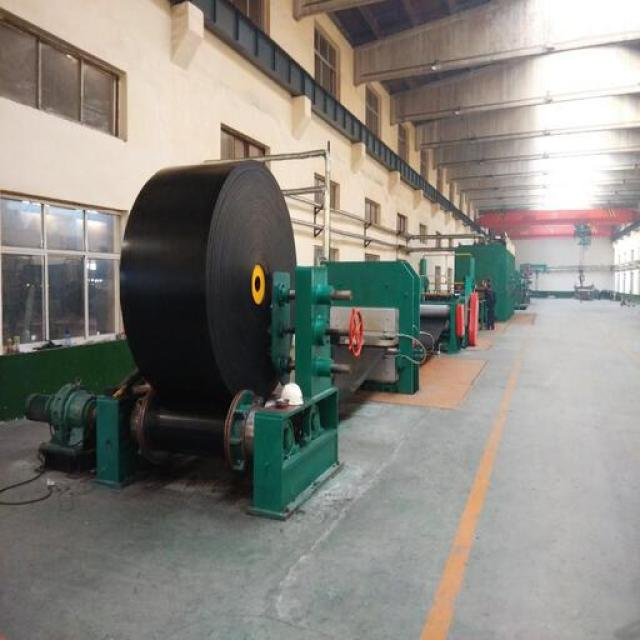conveyor: (116, 389, 268, 477)
